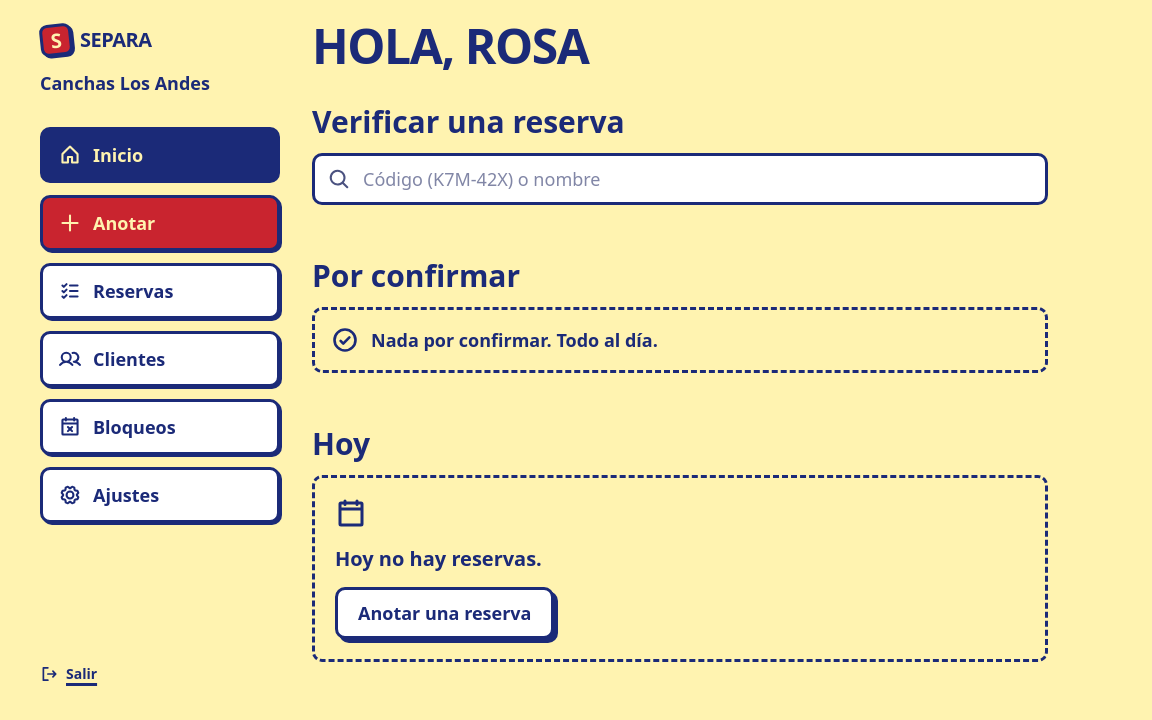
it: the session › signs out: tells the server, forgets the tokens and returns to login
Expected: the heading "Hola, Rosa" is shown, [312,13,588,78]
Click the button "Salir".
click(160, 674)  # box [40,652,280,696]
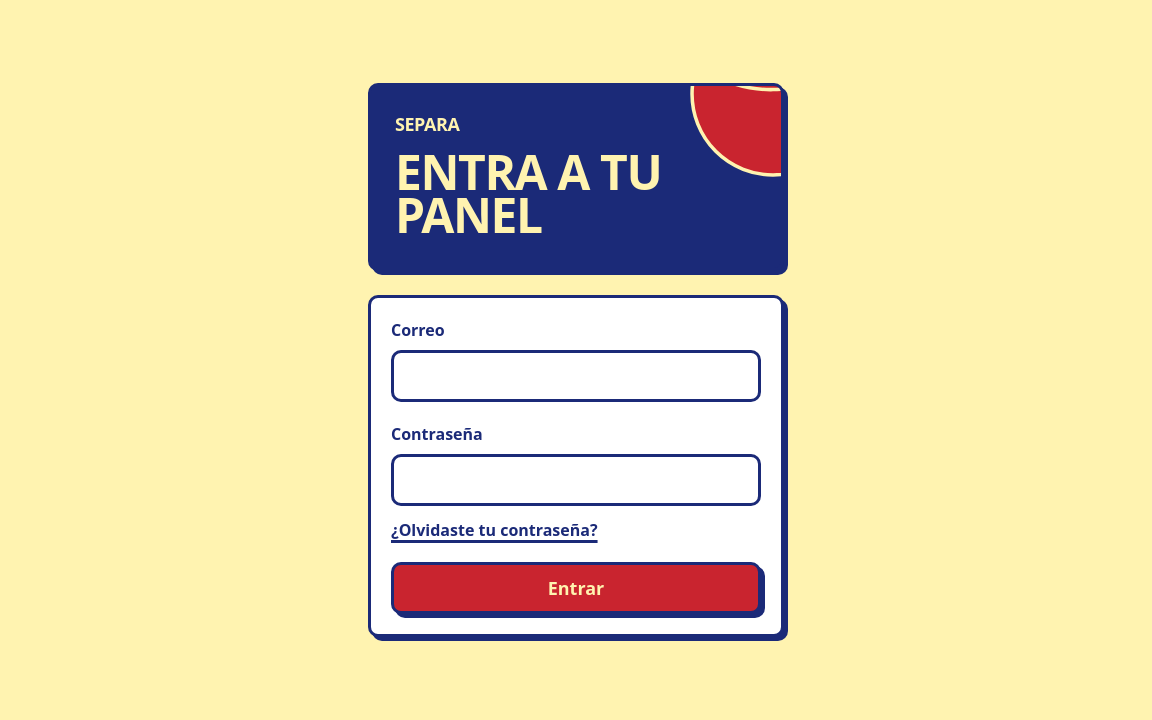
Result: the heading "Entra a tu panel" is shown at [395,139,661,247]
